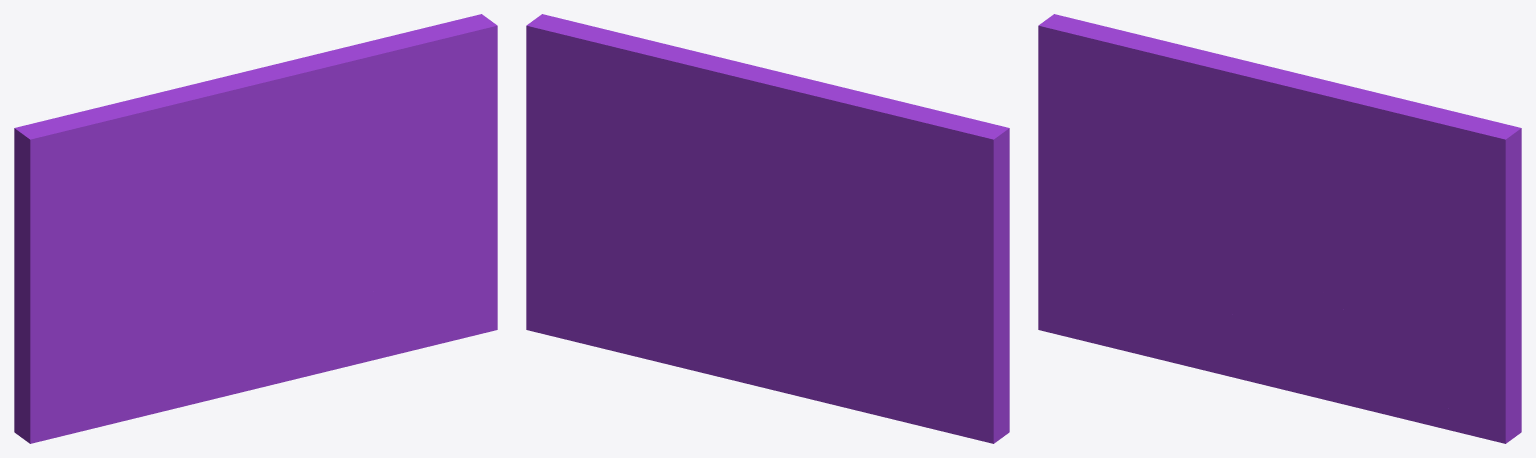
File: Barrier_66_chunks.fbx
3 views of the same model, side by side, from view 1: azimuth 30°, elevation 25°; view 2: azimuth 150°, elevation 25°; view 3: azimuth 330°, elevation 25° (orthographic).
Visible parts, largest first — view 1: Barrier_66_1, Barrier_66_0, Barrier_66_5, Barrier_66_3, Barrier_66_4, Barrier_66_6; view 2: Barrier_66_0, Barrier_66_1, Barrier_66_3, Barrier_66_5, Barrier_66_2, Barrier_66_4, Barrier_66_6; view 3: Barrier_66_1, Barrier_66_0, Barrier_66_5, Barrier_66_3, Barrier_66_4, Barrier_66_6.
Part boxes in pixels (box(x1,y1,x2,y2)): Barrier_66_1: box(259, 14, 497, 336); Barrier_66_0: box(14, 65, 279, 400); Barrier_66_5: box(14, 301, 207, 443); Barrier_66_3: box(261, 266, 469, 356); Barrier_66_4: box(168, 322, 386, 410); Barrier_66_6: box(171, 238, 316, 338); Barrier_66_0: box(735, 67, 1009, 400); Barrier_66_1: box(526, 14, 759, 332); Barrier_66_3: box(537, 252, 807, 376); Barrier_66_5: box(805, 288, 1009, 443); Barrier_66_2: box(670, 125, 773, 270); Barrier_66_4: box(718, 353, 834, 404); Barrier_66_6: box(746, 245, 834, 314); Barrier_66_1: box(1267, 77, 1521, 443); Barrier_66_0: box(1038, 14, 1312, 286); Barrier_66_5: box(1038, 255, 1215, 363); Barrier_66_3: box(1269, 292, 1477, 436); Barrier_66_4: box(1176, 312, 1394, 416); Barrier_66_6: box(1179, 236, 1325, 321).
Bounding box in the file's own units: 462 × 288 × 27.2.
